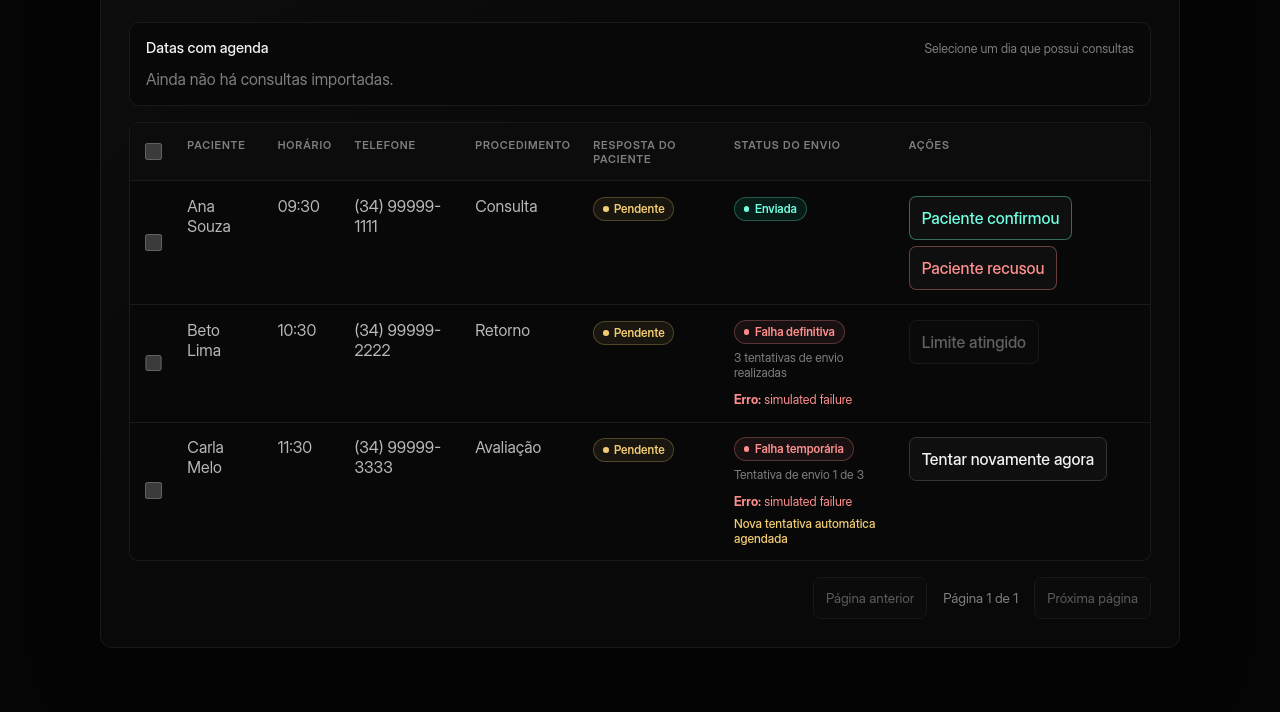
it: retries a failed message with queued=false
(page scrolled)
Click the button "Tentar novamente agora" at (1008,459), box x1=909 y1=437 x2=1107 y2=481
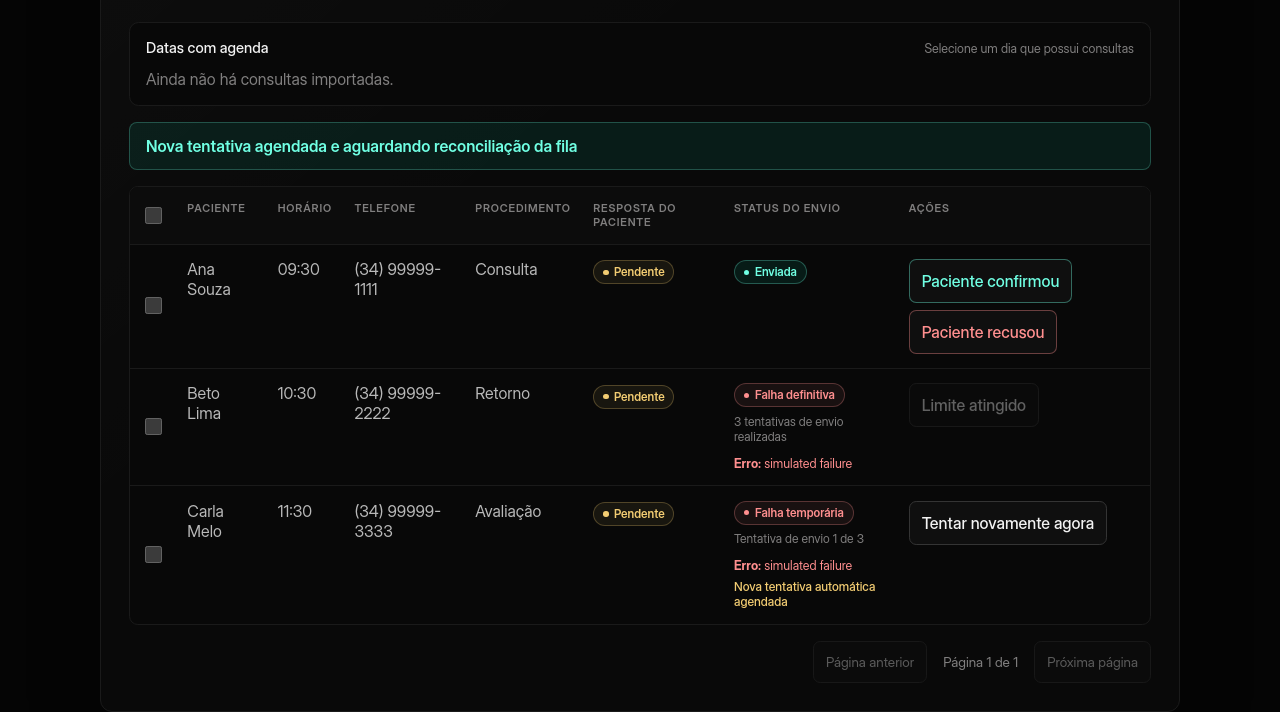
Result: the text "Nova tentativa agendada e aguardando reconciliação da fila" is shown at x1=129 y1=122 x2=1151 y2=170
